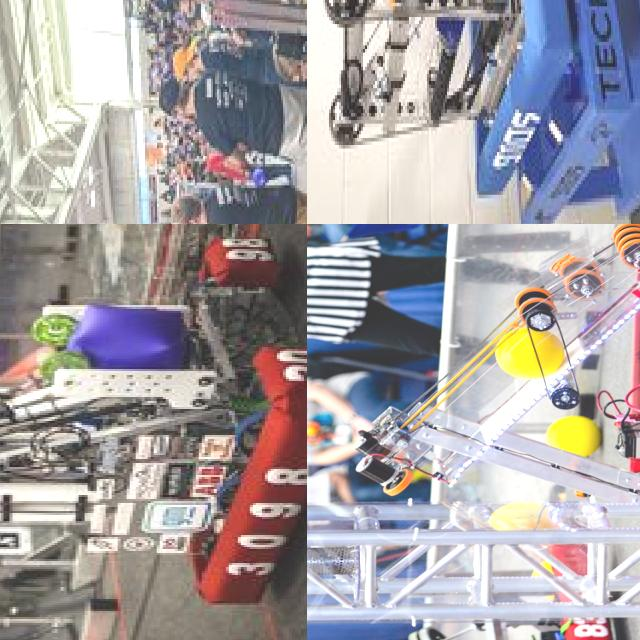FRC-Robots: (0, 224, 307, 596), (342, 224, 640, 565), (0, 48, 307, 224), (313, 0, 555, 212), (372, 529, 639, 640)
